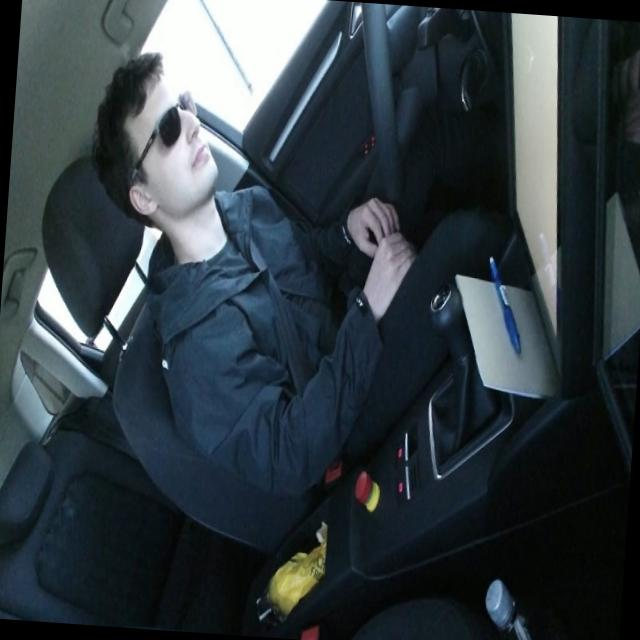pen: (481, 252, 527, 356)
